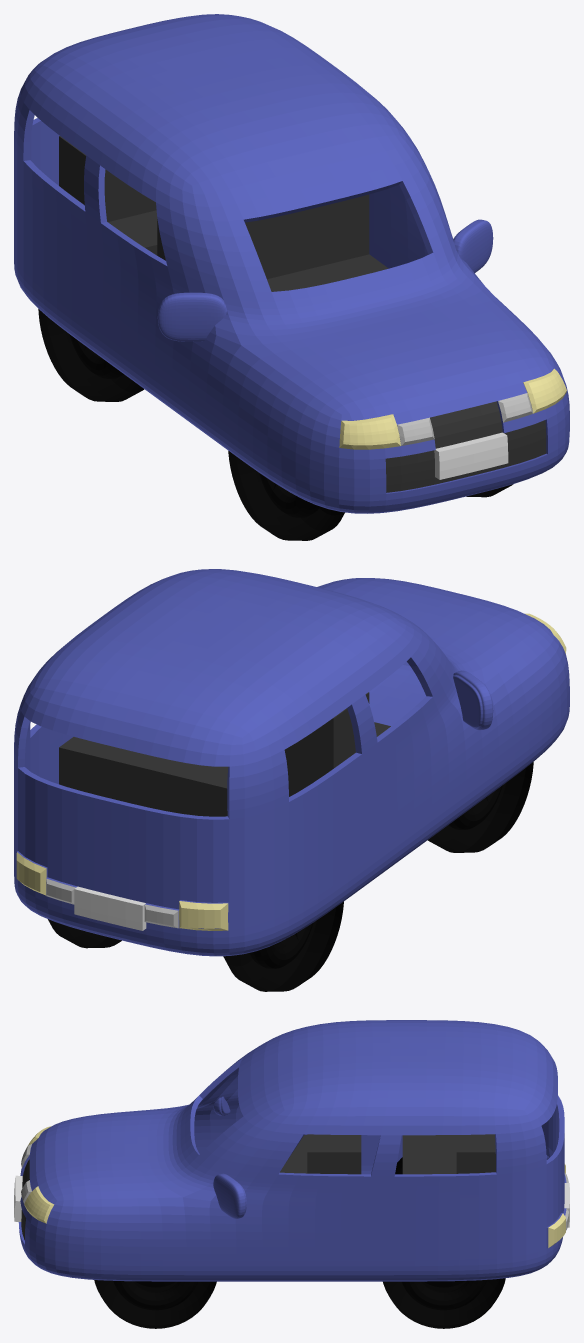
3 renders of one model, top to bottom at view 1: azimuth 30°, elevation 25°; view 2: azimuth 150°, elevation 25°; view 3: azimuth 270°, elevation 25°, orthographic. The views are drawn at different scales.
Parts seen in each view (by area): view 1: トーラス.001; view 2: トーラス.001; view 3: トーラス.001.
Boxes of the visible parts, x1,y1,x2,y2 form: トーラス.001: (14, 14, 569, 540); トーラス.001: (14, 569, 569, 991); トーラス.001: (14, 1020, 569, 1328).
Bounding box in the file's own units: 5.43 × 4.97 × 10.29.
